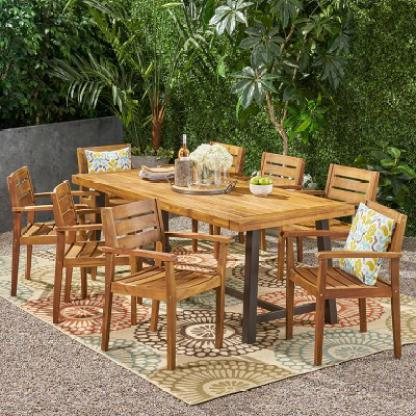table: (72, 152, 358, 346)
